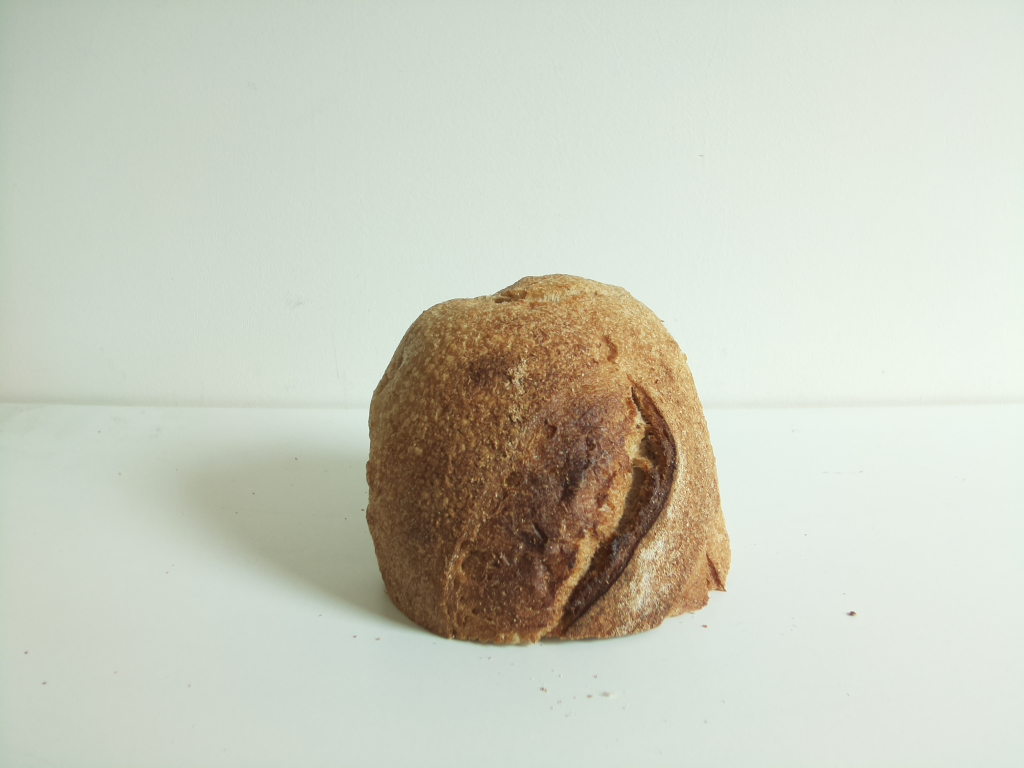bread: (363, 273, 733, 647)
